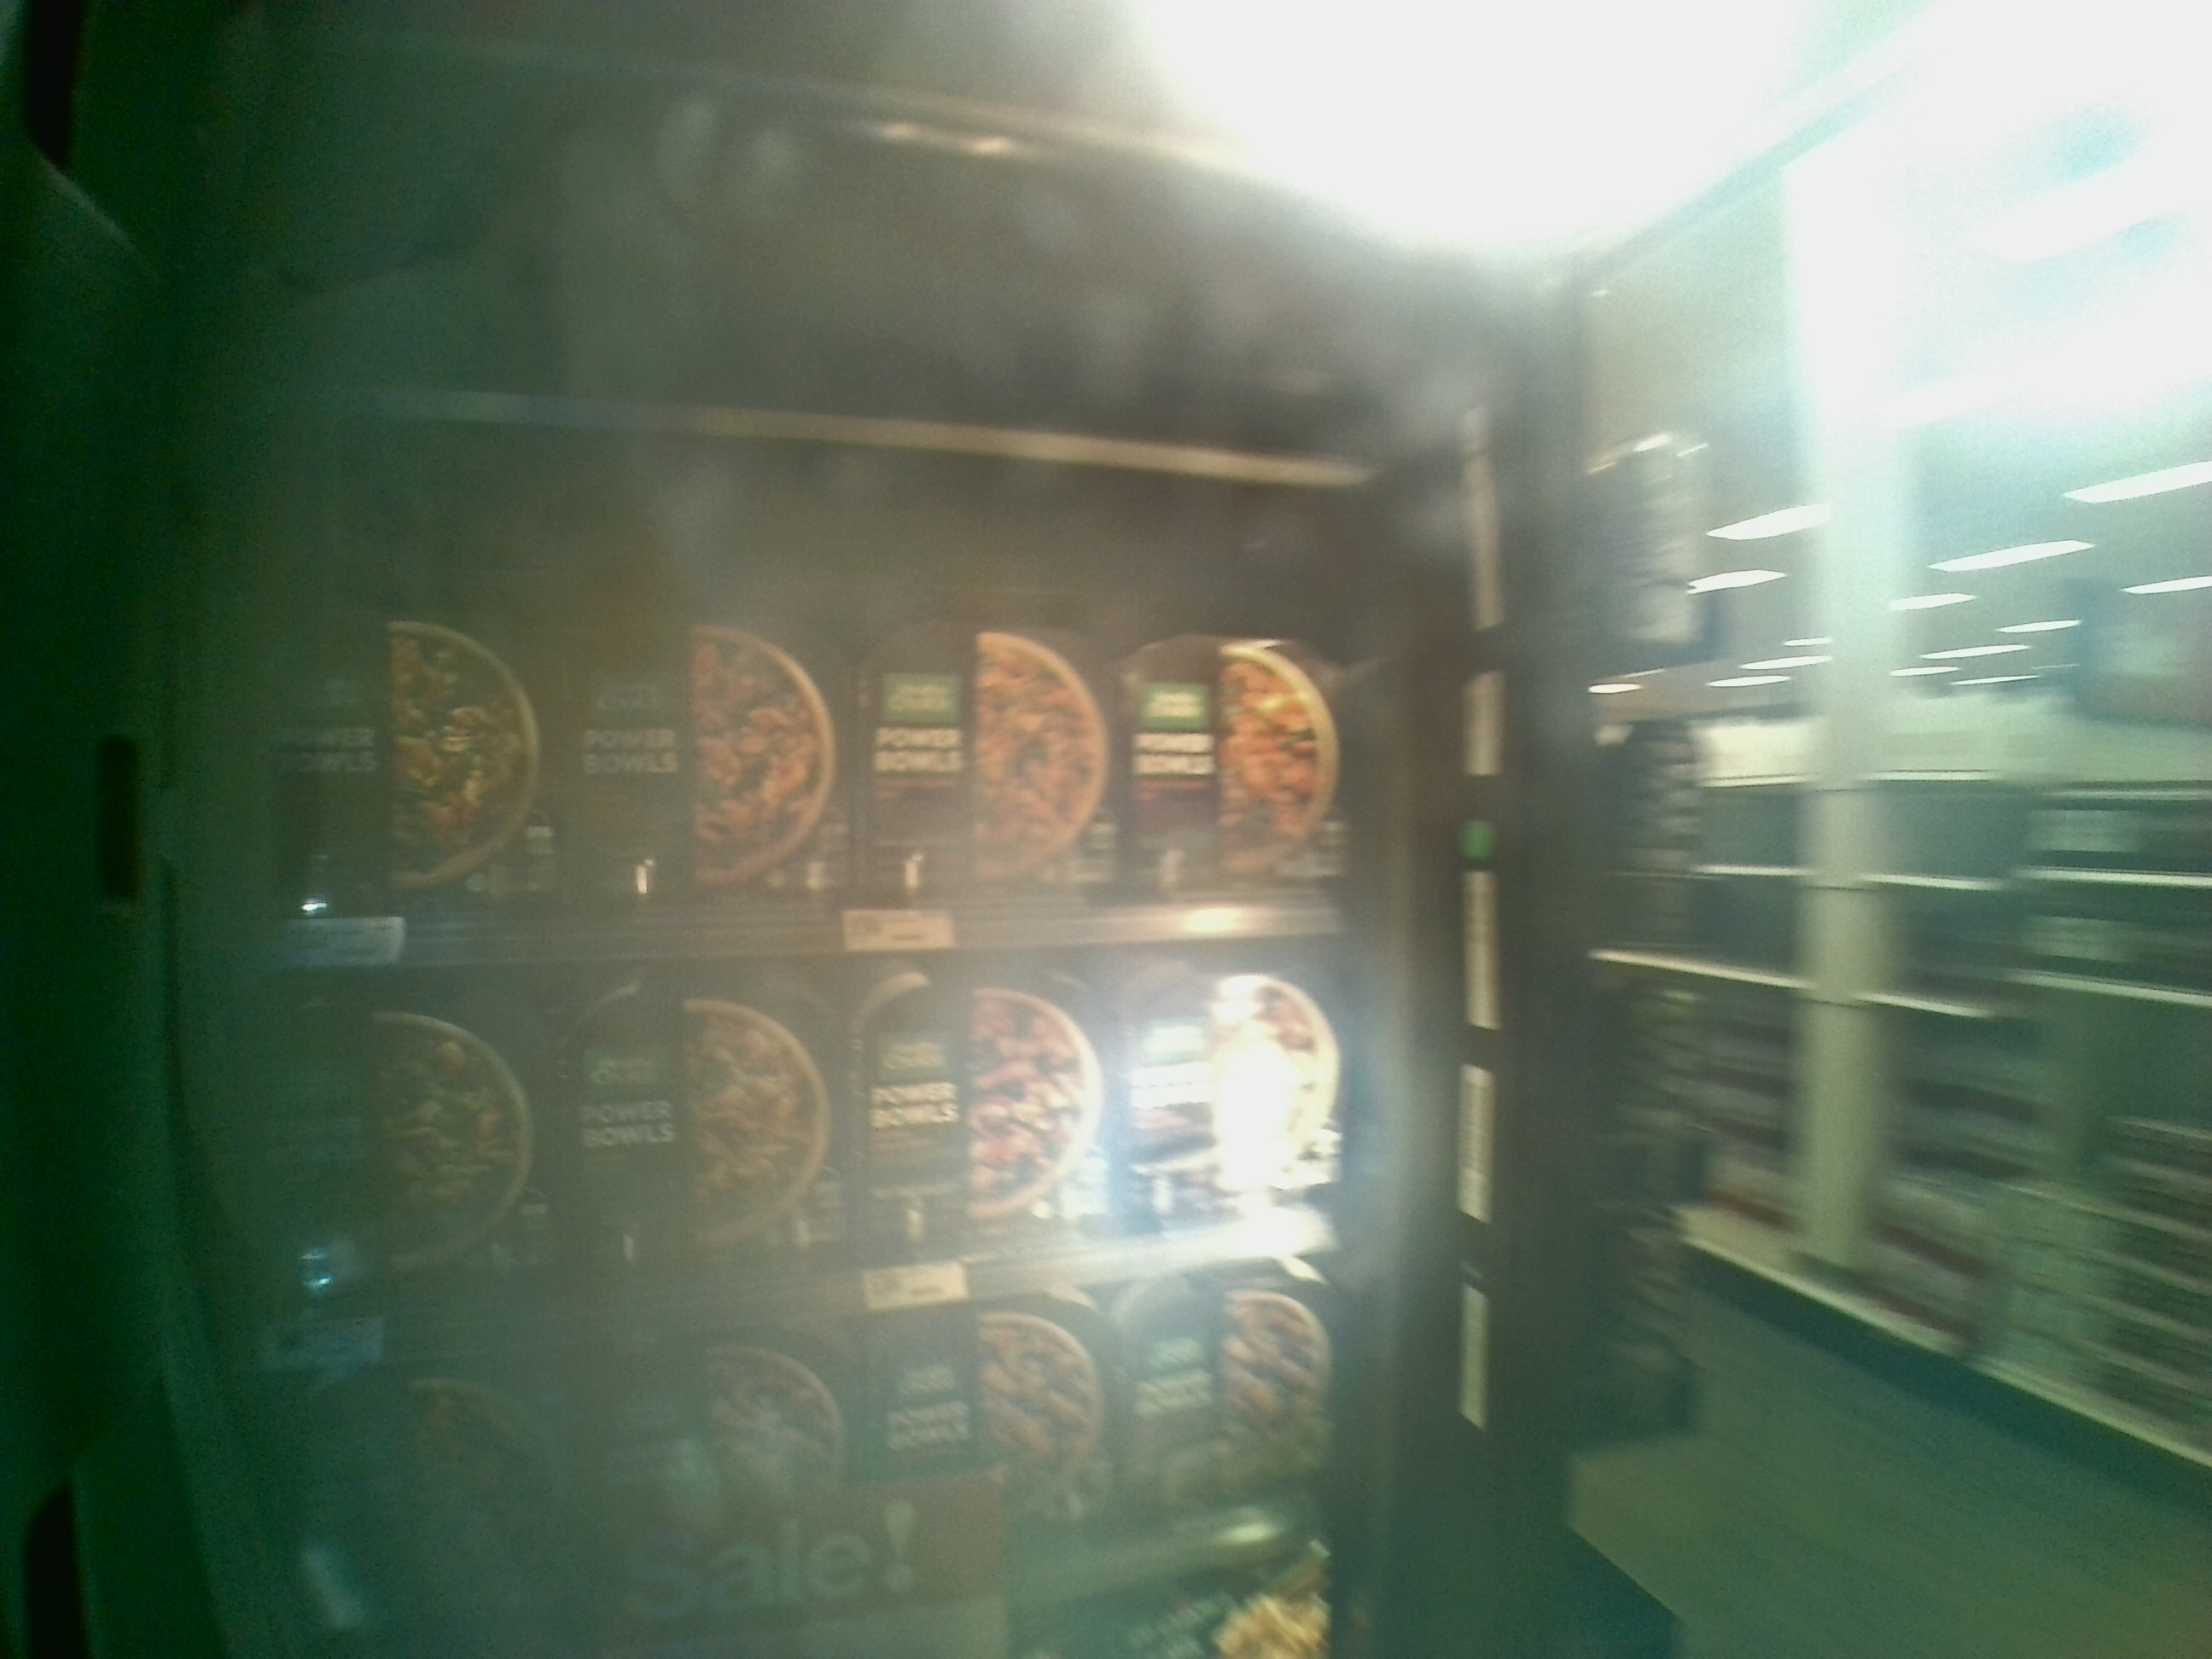shelf: (214, 387, 1367, 955)
